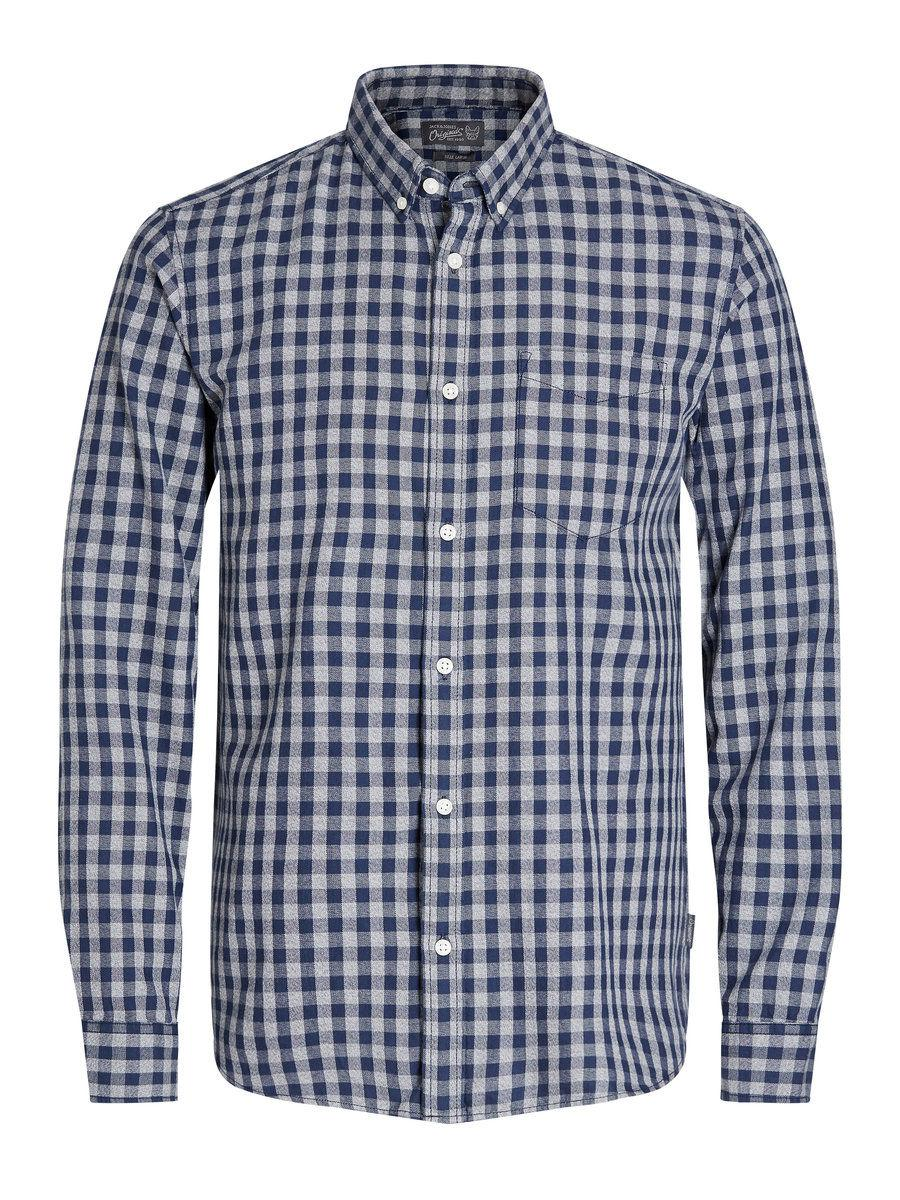teeshirt: (25, 40, 838, 1133)
